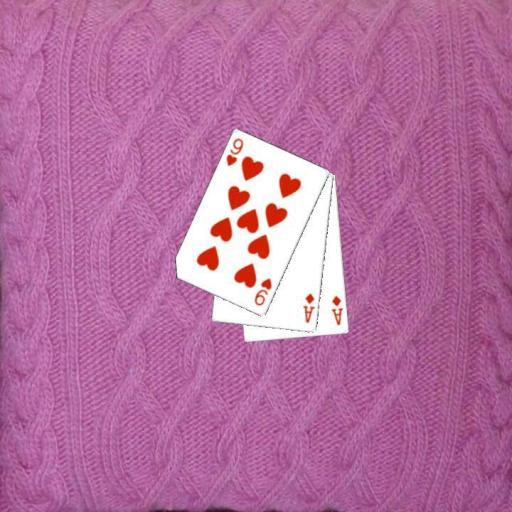9H: (251, 275, 274, 308), (223, 135, 245, 168)
AD: (300, 290, 317, 324), (328, 293, 345, 326)
